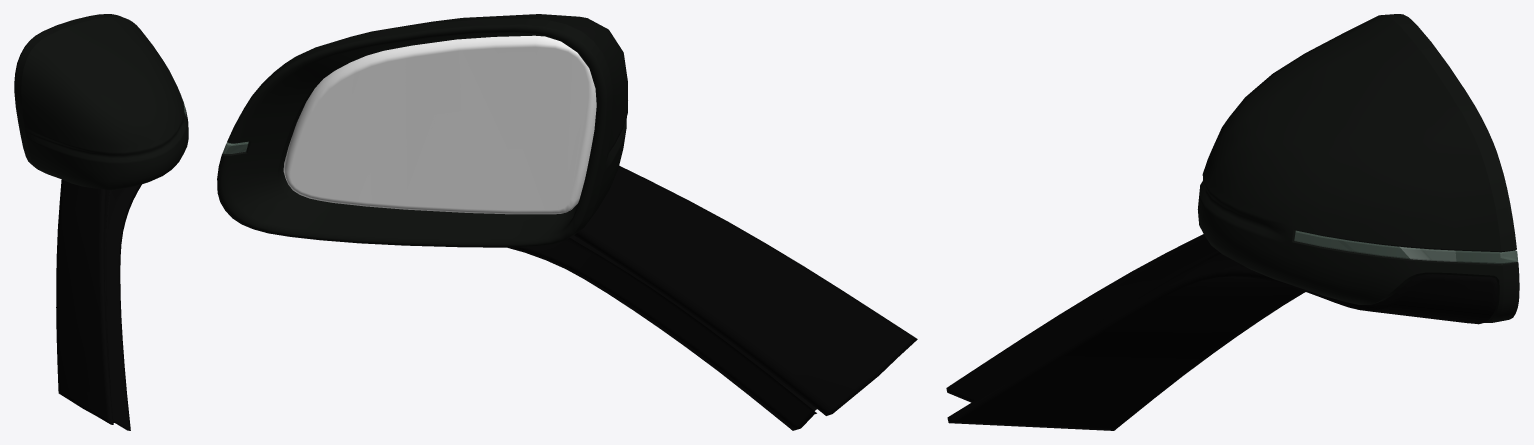
File: sidemirror_l.glb
The picture shows the model from 3 angles, left to right: view 1: azimuth 30°, elevation 25°; view 2: azimuth 150°, elevation 25°; view 3: azimuth 270°, elevation 25°; orthographic projection. The views are drawn at different scales.
Visible parts, largest first — view 1: amgprojone_door_L.001_amgprojone_paint_0.002, amgprojone_door_L.003_amgprojone_plastic_0.001; view 2: amgprojone_door_L.009_amgprojone_interior.9_0.001, amgprojone_door_L.003_amgprojone_plastic_0.001, amgprojone_door_L.001_amgprojone_paint_0.002; view 3: amgprojone_door_L.001_amgprojone_paint_0.002, amgprojone_door_L.003_amgprojone_plastic_0.001, amgprojone_door_L_amgprojone_clearglass2_0.001, amgprojone_door_L.009_amgprojone_interior.9_0.001.
Part boxes in pixels (left/top/right/bottom): amgprojone_door_L.001_amgprojone_paint_0.002: left=14, top=14, right=188, bottom=190; amgprojone_door_L.003_amgprojone_plastic_0.001: left=56, top=179, right=141, bottom=430; amgprojone_door_L.009_amgprojone_interior.9_0.001: left=283, top=35, right=596, bottom=214; amgprojone_door_L.003_amgprojone_plastic_0.001: left=240, top=149, right=917, bottom=430; amgprojone_door_L.001_amgprojone_paint_0.002: left=217, top=14, right=627, bottom=247; amgprojone_door_L.001_amgprojone_paint_0.002: left=1197, top=14, right=1519, bottom=322; amgprojone_door_L.003_amgprojone_plastic_0.001: left=946, top=234, right=1497, bottom=430; amgprojone_door_L_amgprojone_clearglass2_0.001: left=1294, top=230, right=1517, bottom=264; amgprojone_door_L.009_amgprojone_interior.9_0.001: left=1400, top=247, right=1455, bottom=261.
Size of the model in its own units: 0.215 by 0.2613 by 0.2992.
Materials: 4 (1 with a texture image).
